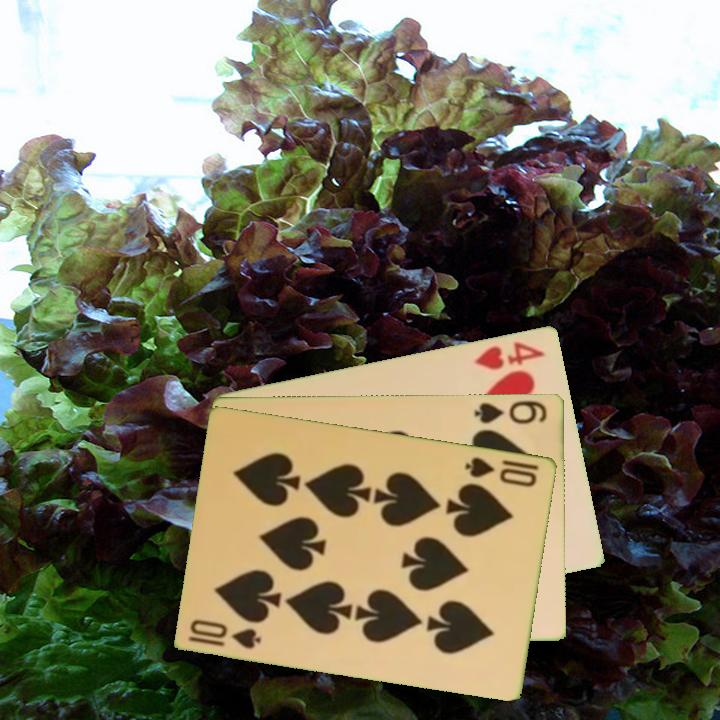10s: (461, 453, 542, 490), (185, 615, 265, 652)
4h: (471, 338, 547, 373)
6s: (472, 396, 550, 426)
